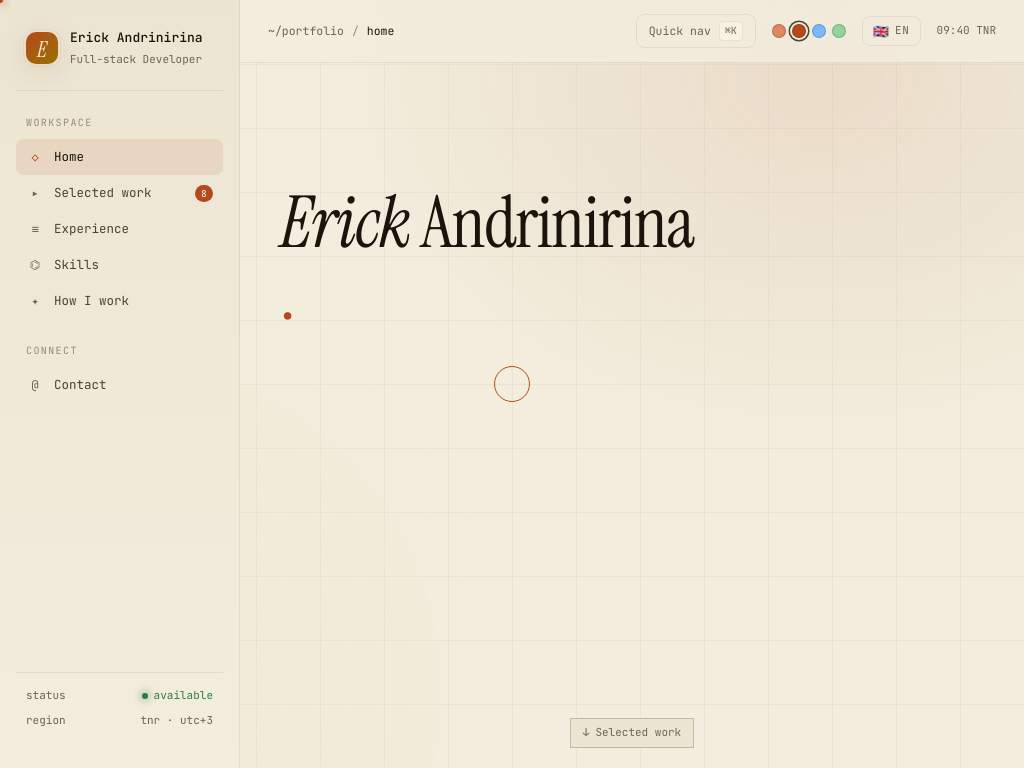
Sidebar navigation › navigates to work when the work row is clicked
Click the button with test id "nav-row-work" at (120,193), box [16,175,223,211]
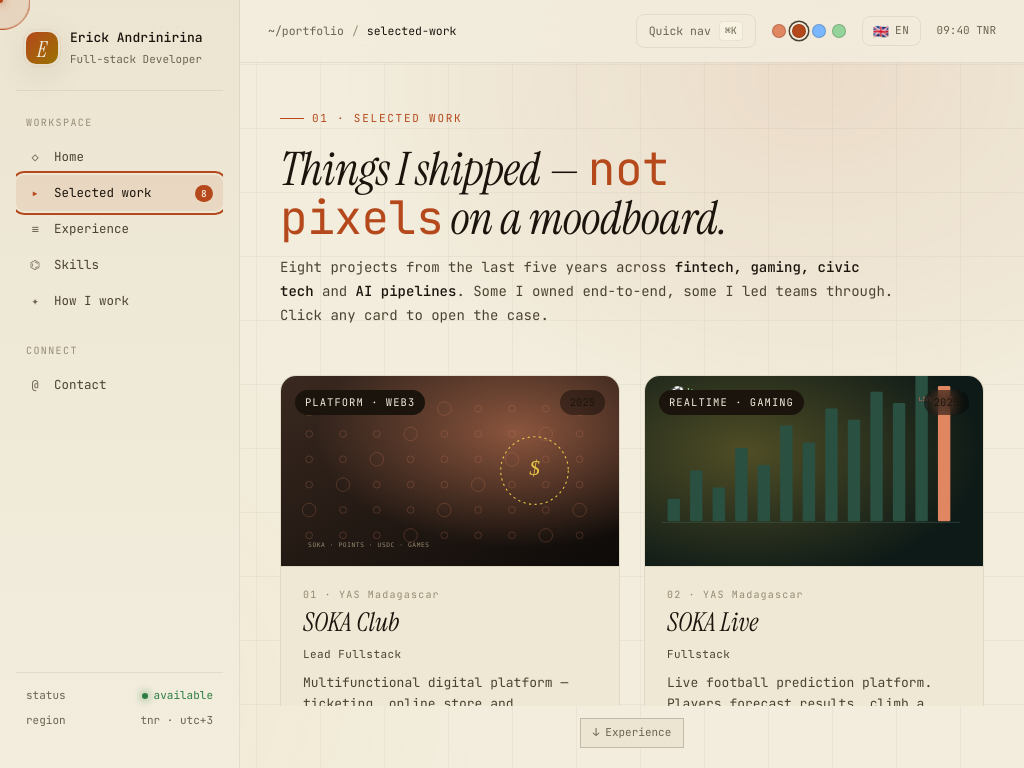
Expected: the heading "E r i c k A n d r i n i r i n a." is gone
